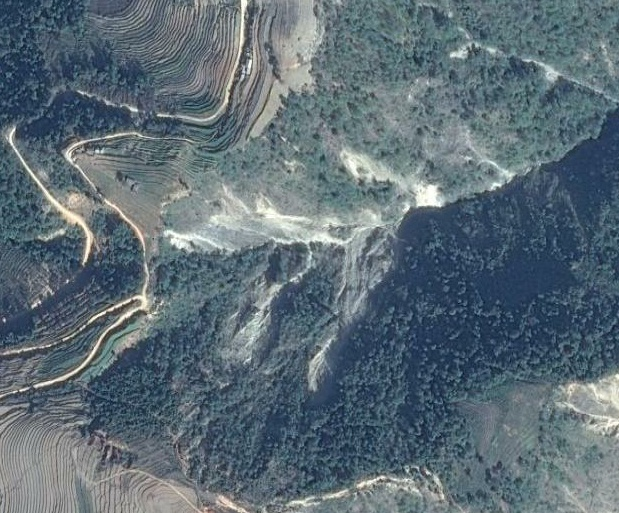slope: (303, 223, 399, 396), (166, 182, 339, 253), (218, 274, 281, 371), (554, 369, 618, 442), (335, 141, 406, 188), (409, 176, 446, 211), (67, 189, 103, 210), (448, 38, 482, 59)
